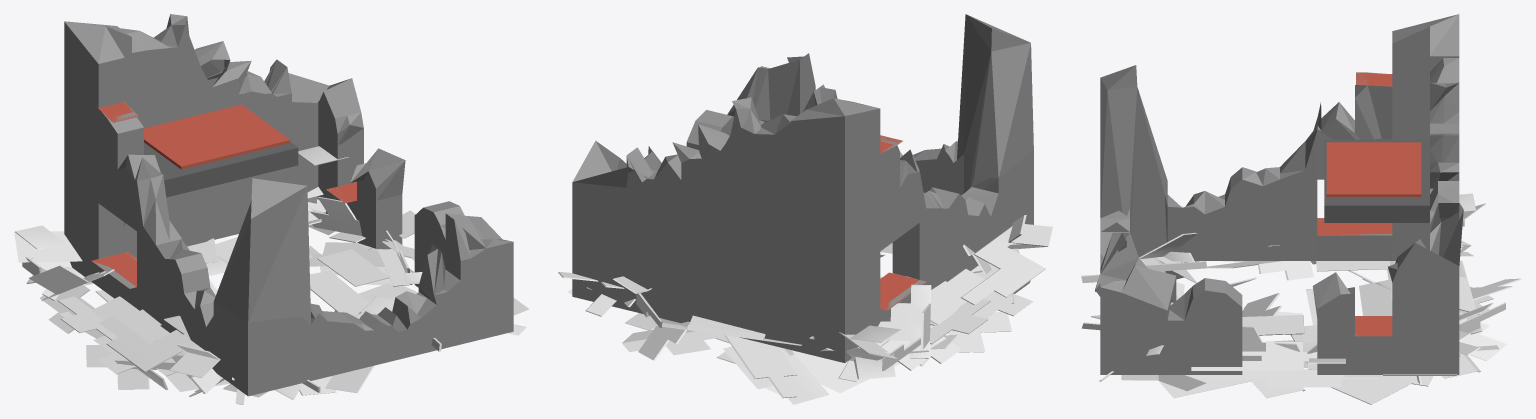
File: Дом разваленный.fbx
3 views of the same model, side by side, from view 1: azimuth 30°, elevation 25°; view 2: azimuth 150°, elevation 25°; view 3: azimuth 270°, elevation 25° (orthographic). The views are drawn at different scales.
Visible parts, largest first — view 1: Объект_Куб, Объект_Куб_3, Объект_Куб_2, Объект_Куб_1; view 2: Объект_Куб, Объект_Куб_3; view 3: Объект_Куб, Объект_Куб_3, Объект_Куб_2, Объект_Куб_1.
Boxes of the visible parts, x1,y1,x2,y2 form: Объект_Куб: [64, 14, 513, 396]; Объект_Куб_3: [14, 146, 529, 404]; Объект_Куб_2: [144, 104, 290, 169]; Объект_Куб_1: [144, 142, 298, 197]; Объект_Куб: [572, 14, 1033, 362]; Объект_Куб_3: [558, 215, 1052, 404]; Объект_Куб: [1095, 14, 1463, 374]; Объект_Куб_3: [1081, 193, 1521, 404]; Объект_Куб_2: [1326, 142, 1421, 196]; Объект_Куб_1: [1324, 138, 1429, 222].
Bounding box in the file's own units: 2697 × 2138 × 2937.
